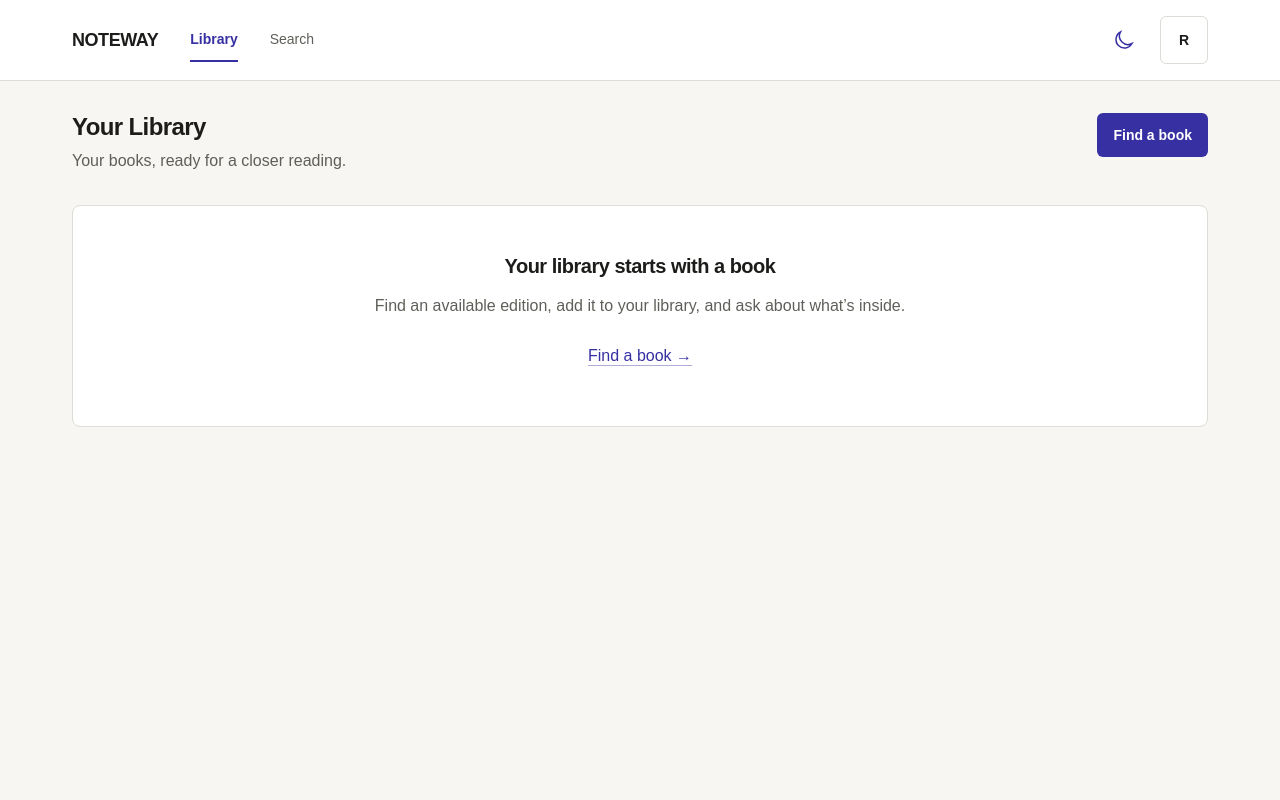
it: persists a user-selected theme and exposes keyboard-operable account actions
Click the button named "Switch to dark theme".
click(1124, 40)  # box [1096,18,1152,62]
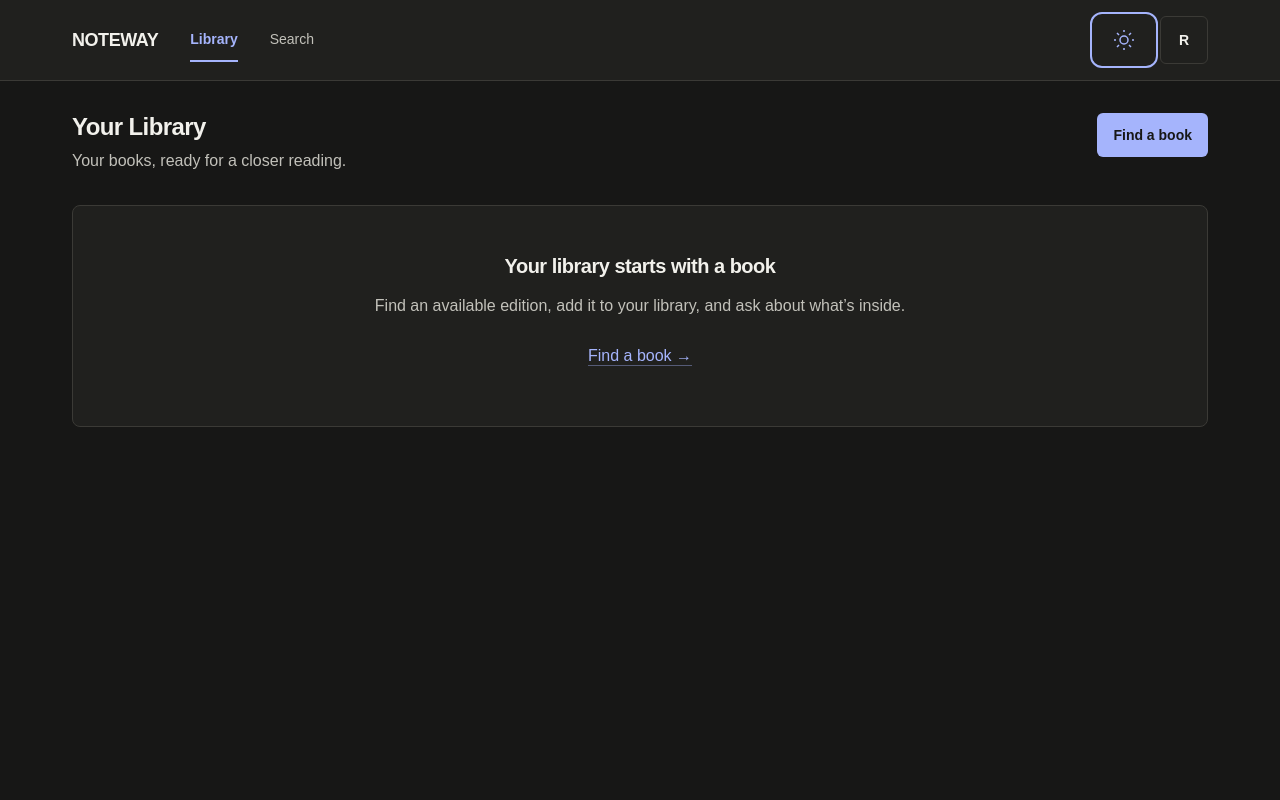
Click the button named "Account".
click(1184, 40)  # box [1160,16,1208,64]
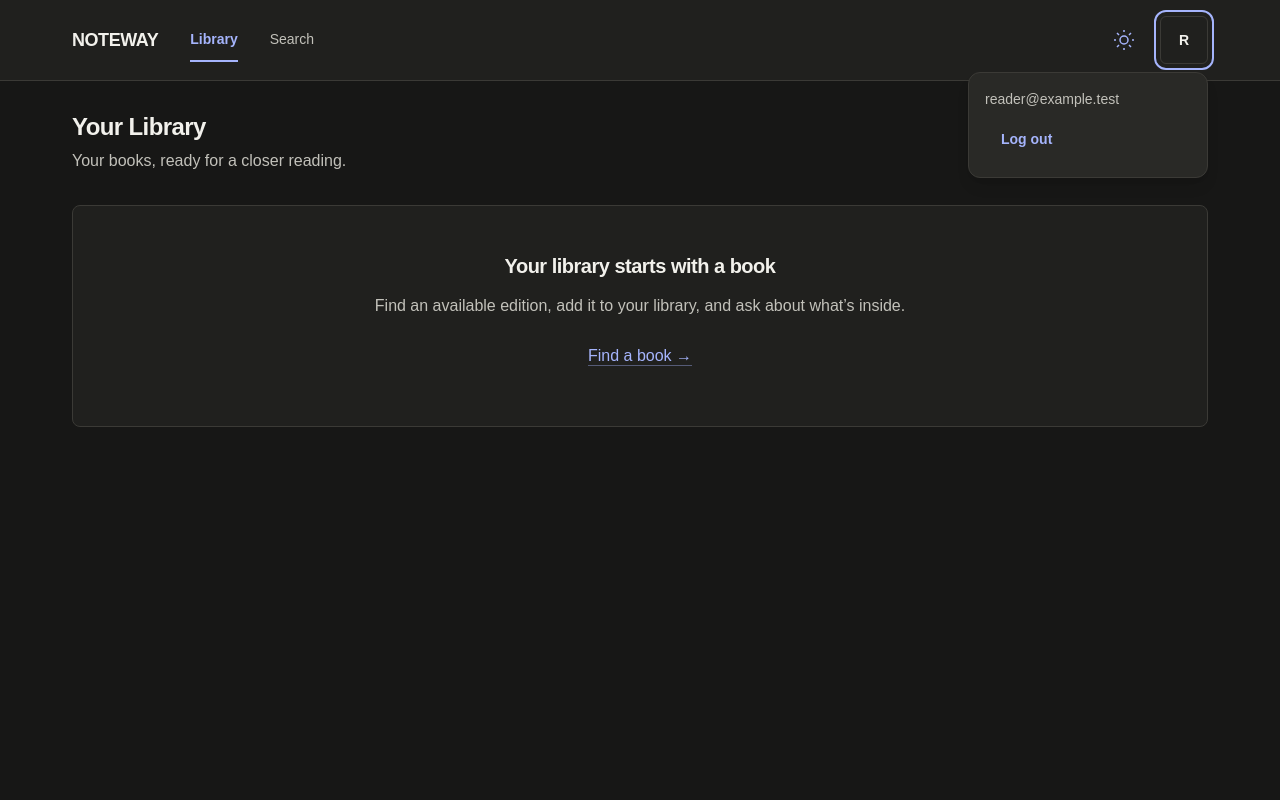
Now the button "Log out" is shown, box [985,117,1068,161]
Press Escape
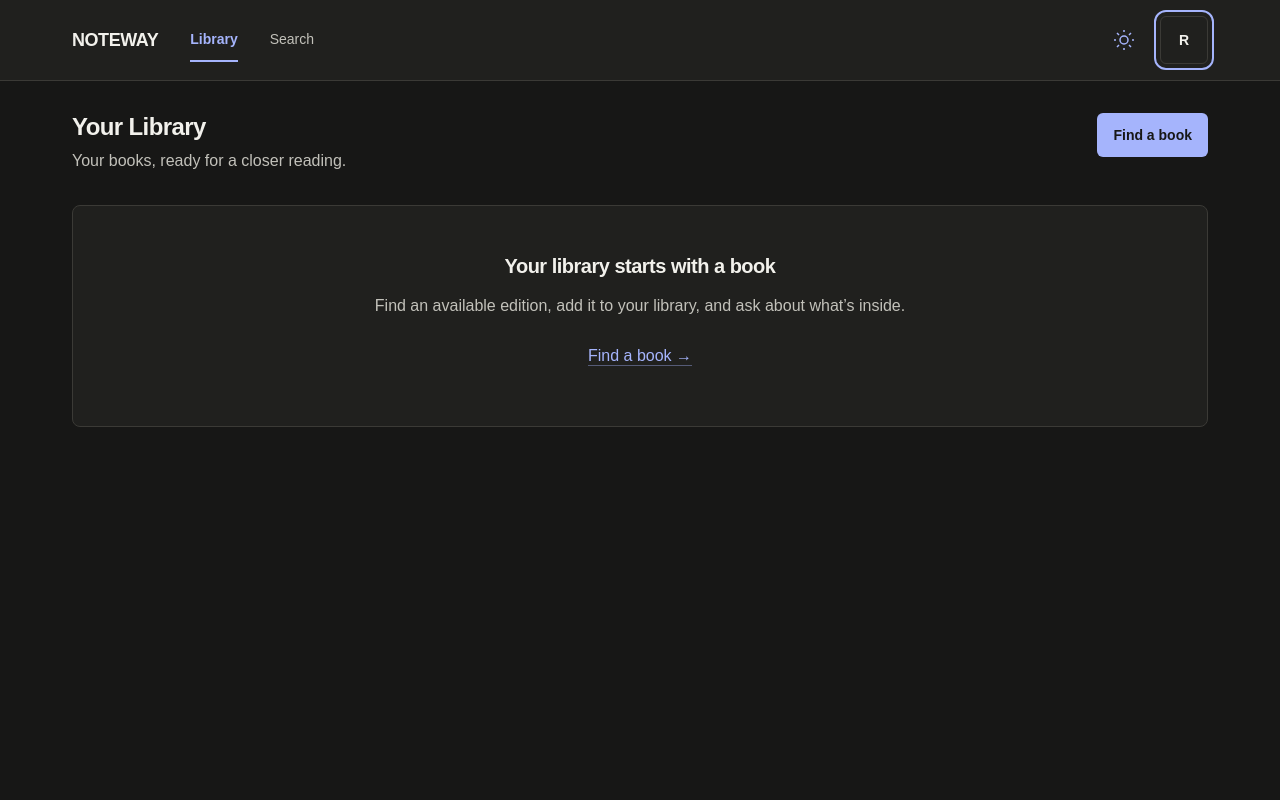
Now the button "Log out" is gone
